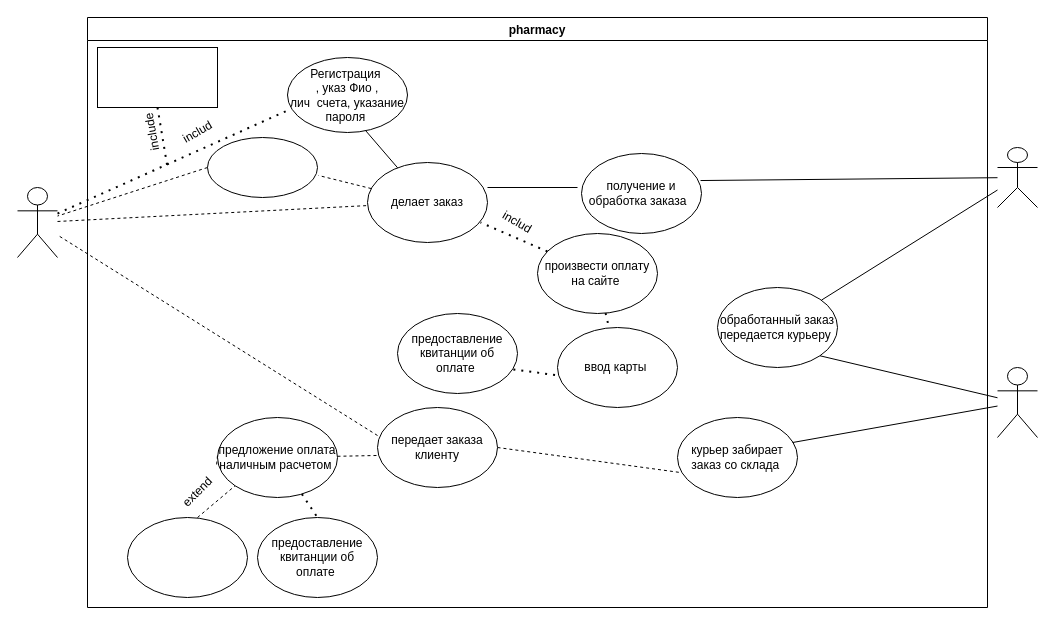
This 1064x625 diagram has some shape labels left out. The centre of each missing label's shape, as x and y in pixels:
Авторизироваться: the point at 262,167
Клиент: the point at 37,222
курьер: the point at 1017,402
Менеджер: the point at 1017,177
предложение оставить отзыв о доставке: the point at 187,557
скачать приложение: the point at 157,77
